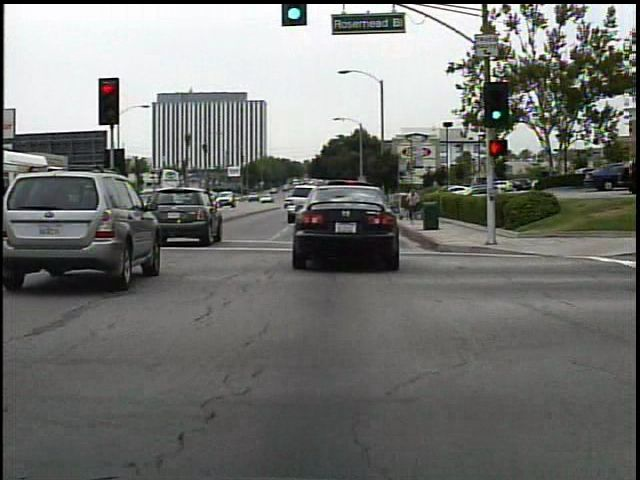person: (404, 185, 422, 225)
